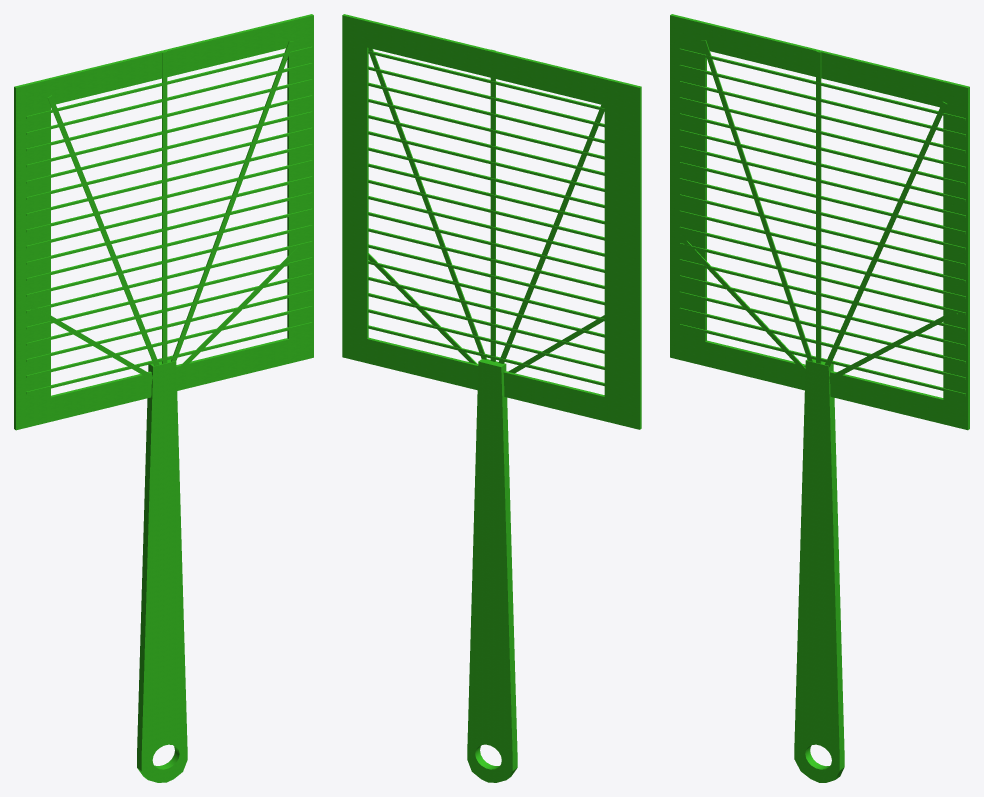
File: fly swatter scaled.fbx
The picture shows the model from 3 angles, left to right: view 1: azimuth 30°, elevation 25°; view 2: azimuth 150°, elevation 25°; view 3: azimuth 330°, elevation 25°; orthographic projection.
Visible parts, largest first — view 1: Box003, flyswatterCylinder001, Box023, Box022, Box024, Box019, Box013, Box017, Box009, Box012, Box014, Box018 (+13 smaller); view 2: Box003, flyswatterCylinder001, Box023, Box022, Box024, Box010, Box017, Box016, Box020, Box009, Box014, Box021 (+13 smaller); view 3: Box003, flyswatterCylinder001, Box024, Box022, Box023, Box018, Box010, Box013, Box015, Box020, Box014, Box017 (+13 smaller).
Part boxes in pixels (left/top/right/bottom): Box003: left=14, top=14, right=313, bottom=430; flyswatterCylinder001: left=137, top=359, right=187, bottom=782; Box023: left=171, top=41, right=293, bottom=361; Box022: left=162, top=51, right=167, bottom=363; Box024: left=47, top=95, right=159, bottom=365; Box019: left=26, top=79, right=312, bottom=151; Box013: left=26, top=176, right=312, bottom=248; Box017: left=26, top=111, right=312, bottom=183; Box009: left=26, top=241, right=312, bottom=313; Box012: left=26, top=192, right=312, bottom=264; Box014: left=26, top=160, right=312, bottom=232; Box018: left=26, top=95, right=312, bottom=167; Box003: left=342, top=14, right=641, bottom=429; flyswatterCylinder001: left=467, top=359, right=517, bottom=782; Box023: left=368, top=48, right=487, bottom=359; Box022: left=490, top=49, right=495, bottom=361; Box024: left=498, top=105, right=604, bottom=363; Box010: left=368, top=228, right=604, bottom=288; Box017: left=368, top=115, right=604, bottom=175; Box016: left=368, top=131, right=604, bottom=191; Box020: left=368, top=66, right=604, bottom=127; Box009: left=368, top=244, right=604, bottom=305; Box014: left=368, top=163, right=604, bottom=224; Box021: left=368, top=51, right=604, bottom=110; Box003: left=670, top=14, right=969, bottom=430; flyswatterCylinder001: left=794, top=359, right=844, bottom=782; Box024: left=701, top=40, right=813, bottom=361; Box022: left=816, top=51, right=821, bottom=363; Box023: left=825, top=101, right=947, bottom=366; Box018: left=679, top=97, right=965, bottom=169; Box010: left=679, top=226, right=965, bottom=298; Box013: left=679, top=178, right=965, bottom=250; Box015: left=679, top=146, right=965, bottom=217; Box020: left=679, top=65, right=965, bottom=136; Box014: left=679, top=162, right=965, bottom=234; Box017: left=679, top=113, right=965, bottom=185.
Size of the model in its own units: 4.72 by 11.07 by 0.1383.
